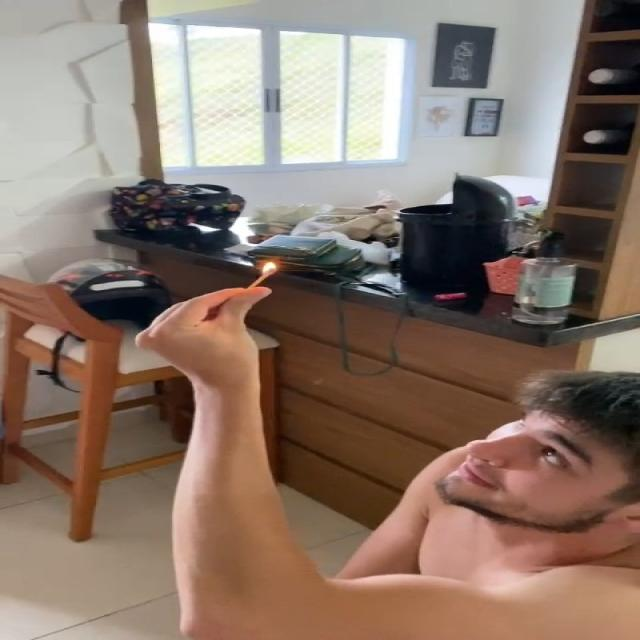fogo-ypXI: (255, 257, 282, 276)
